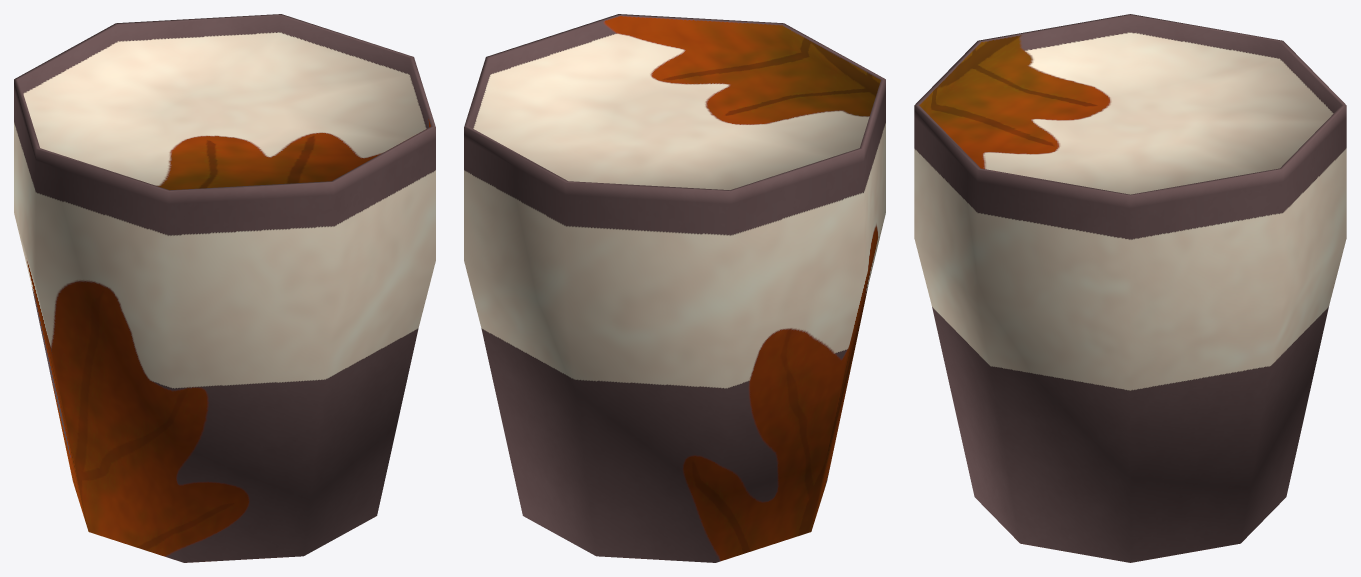
Rendered from Nutella_small.fbx.
3 renders of one model, left to right at view 1: azimuth 30°, elevation 25°; view 2: azimuth 150°, elevation 25°; view 3: azimuth 270°, elevation 25°, orthographic.
Visible parts, largest first — view 1: nutella; view 2: nutella; view 3: nutella.
Part boxes in pixels (left/top/right/bottom): nutella: left=14, top=14, right=435, bottom=562; nutella: left=464, top=14, right=885, bottom=562; nutella: left=914, top=14, right=1346, bottom=562.
Size of the model in its own units: 200 by 200 by 200.
Materials: 1 (1 with a texture image).
